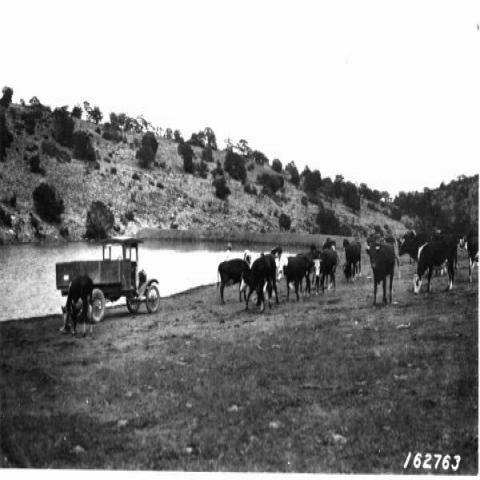truck: (55, 236, 160, 320)
